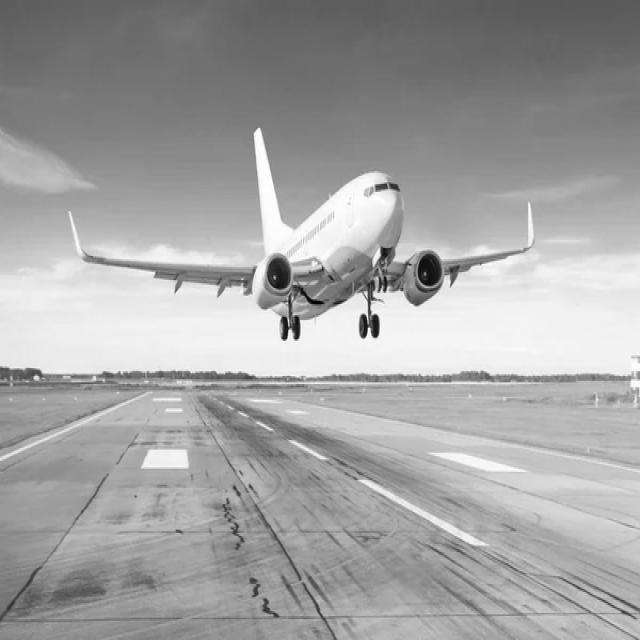Aircraft: (63, 115, 541, 355)
